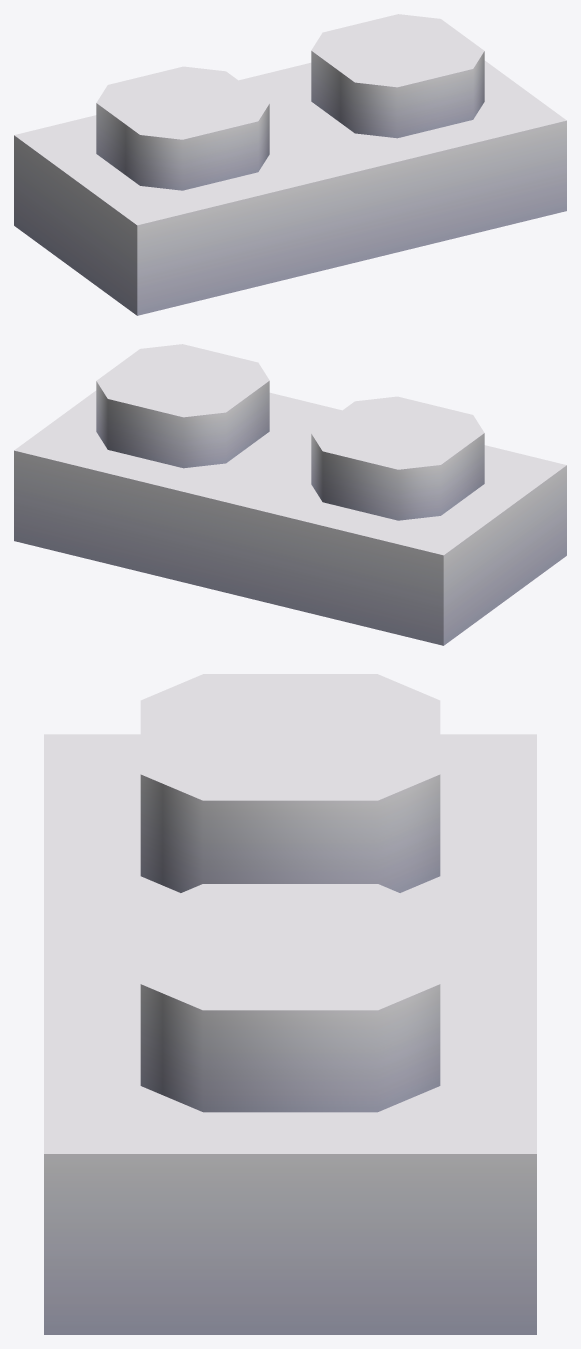
File: kenney-brick-bevel-lq-plate-1-x-2.glb
3 views of the same model, one above another, from view 1: azimuth 30°, elevation 25°; view 2: azimuth 150°, elevation 25°; view 3: azimuth 270°, elevation 25° (orthographic). The views are drawn at different scales.
Visible parts, largest first — view 1: bevel-lq-plate-1x2; view 2: bevel-lq-plate-1x2; view 3: bevel-lq-plate-1x2.
Boxes of the visible parts, x1,y1,x2,y2 form: bevel-lq-plate-1x2: (14,14,566,315); bevel-lq-plate-1x2: (14,344,566,645); bevel-lq-plate-1x2: (44,674,536,1334).
Bounding box in the file's own units: 0.159 × 0.05 × 0.079.
1 material, 1 textured.
